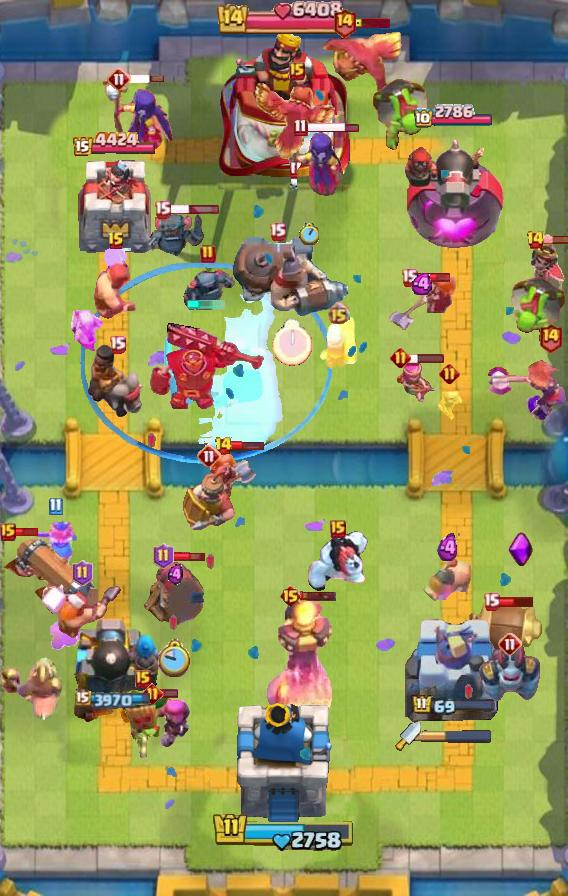archer: (395, 361, 437, 405)
bar: (305, 121, 360, 134), (168, 204, 220, 215), (498, 595, 535, 608), (171, 550, 206, 563), (300, 590, 337, 602), (409, 352, 445, 364), (5, 526, 40, 538), (230, 440, 265, 451), (416, 272, 451, 283), (129, 74, 165, 84), (354, 18, 390, 28), (542, 234, 568, 245), (160, 688, 179, 699)
bar-level: (538, 322, 563, 353), (332, 7, 357, 38), (498, 632, 522, 656), (197, 444, 221, 468), (107, 67, 131, 91), (279, 584, 302, 608), (72, 560, 93, 586), (153, 543, 174, 569), (327, 302, 350, 325), (142, 683, 163, 704), (439, 363, 460, 384), (390, 347, 411, 368), (214, 436, 233, 456), (526, 230, 545, 250), (107, 231, 125, 251), (483, 592, 500, 611), (109, 335, 126, 354), (401, 268, 418, 287), (269, 222, 286, 241), (154, 200, 171, 219), (200, 244, 216, 264), (135, 670, 151, 688), (0, 523, 16, 541), (330, 520, 346, 538), (289, 62, 305, 80), (48, 497, 63, 516), (293, 118, 308, 137)
barbarian-barrel: (466, 600, 546, 654)
cannoneer-tower: (400, 132, 507, 256), (67, 611, 161, 731)
clock: (272, 319, 312, 366), (159, 639, 192, 677), (299, 223, 319, 245)
dagger-duchess-tower: (405, 611, 501, 731)
dagger-duchess-tower-bar: (421, 729, 493, 743)
dart-goblin: (113, 686, 173, 762)
elixir: (437, 533, 460, 563), (411, 273, 435, 295), (168, 564, 183, 585)
evolution-symbol: (508, 531, 534, 567)
firecracker: (145, 693, 191, 749), (317, 313, 359, 371)
goblin: (65, 307, 103, 353)
goblin-ball: (508, 272, 568, 348), (370, 74, 430, 150)
king-tower: (218, 27, 350, 181), (235, 703, 333, 826)
king-tower-bar: (212, 811, 356, 853), (217, 0, 351, 34)
little-prince: (520, 243, 568, 335)
lumberjack: (42, 584, 122, 646), (88, 248, 144, 324)
mega-minion: (477, 644, 543, 704)
mini-pekka: (145, 208, 205, 258), (180, 266, 236, 312)
queen-tower: (74, 159, 155, 256)
ram-rider: (86, 343, 148, 419)
royal-hog: (423, 558, 473, 604)
royal-recruit: (182, 462, 236, 532)
skeleton: (435, 389, 463, 423)
tower-bar: (72, 131, 157, 159), (413, 104, 494, 130), (411, 694, 496, 717), (75, 689, 153, 709)
valkyrie: (388, 275, 458, 331), (31, 520, 79, 574), (209, 451, 259, 499)
valkyrie-evolution: (485, 358, 568, 422)
witch: (99, 77, 175, 151), (275, 129, 343, 197)
